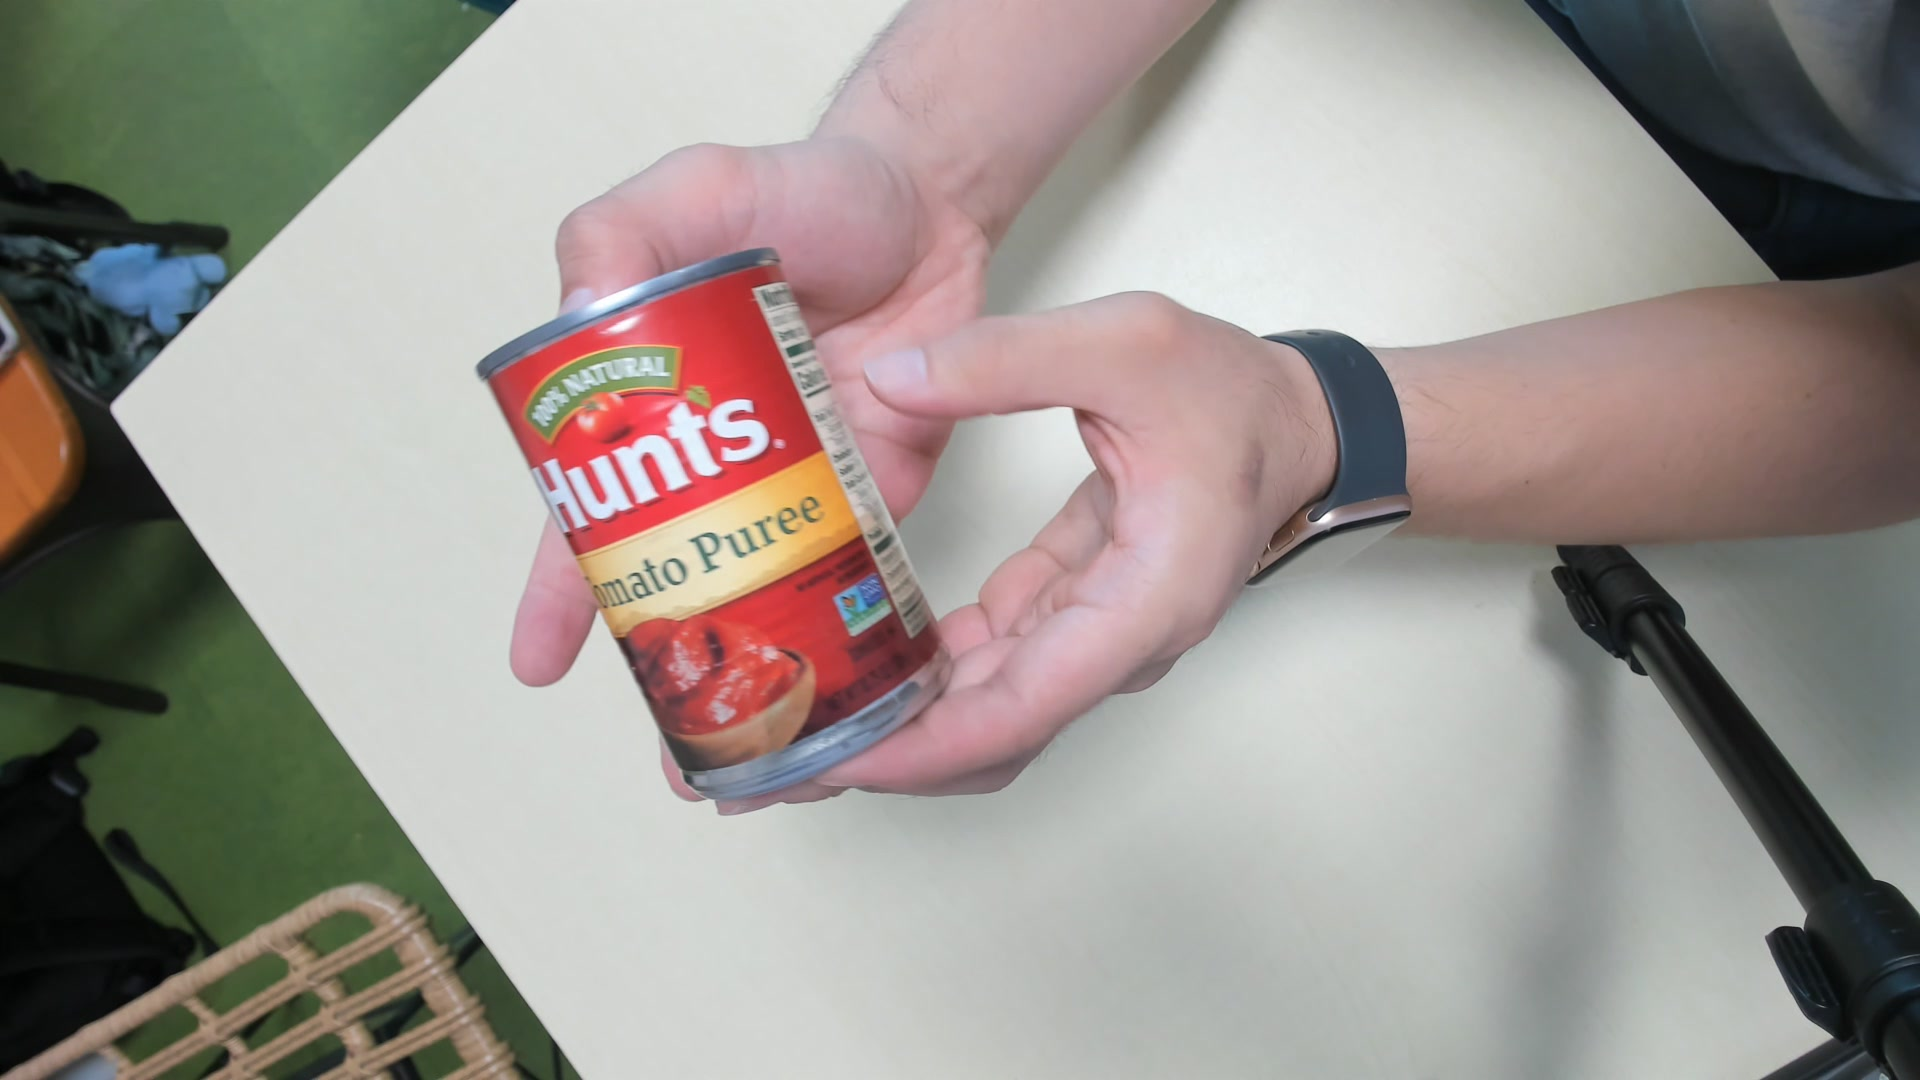OtherSauceDressing_300-399g_NonHalal_NonHealthy: (491, 241, 949, 808)
